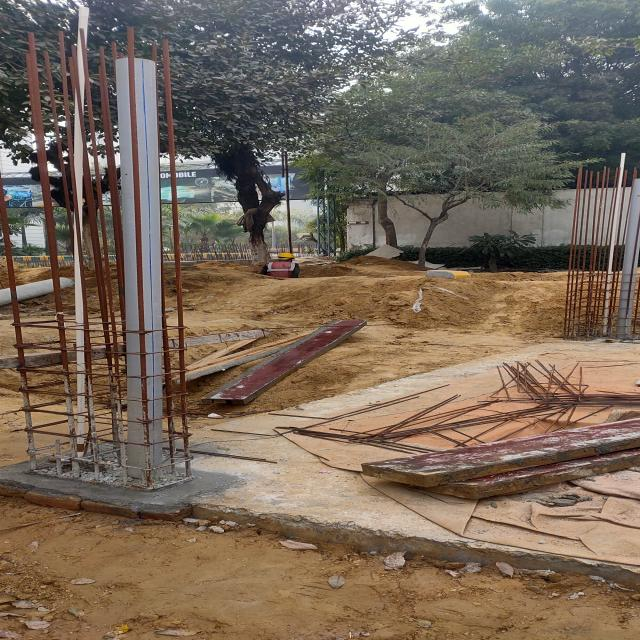safe: (260, 252, 304, 278)
